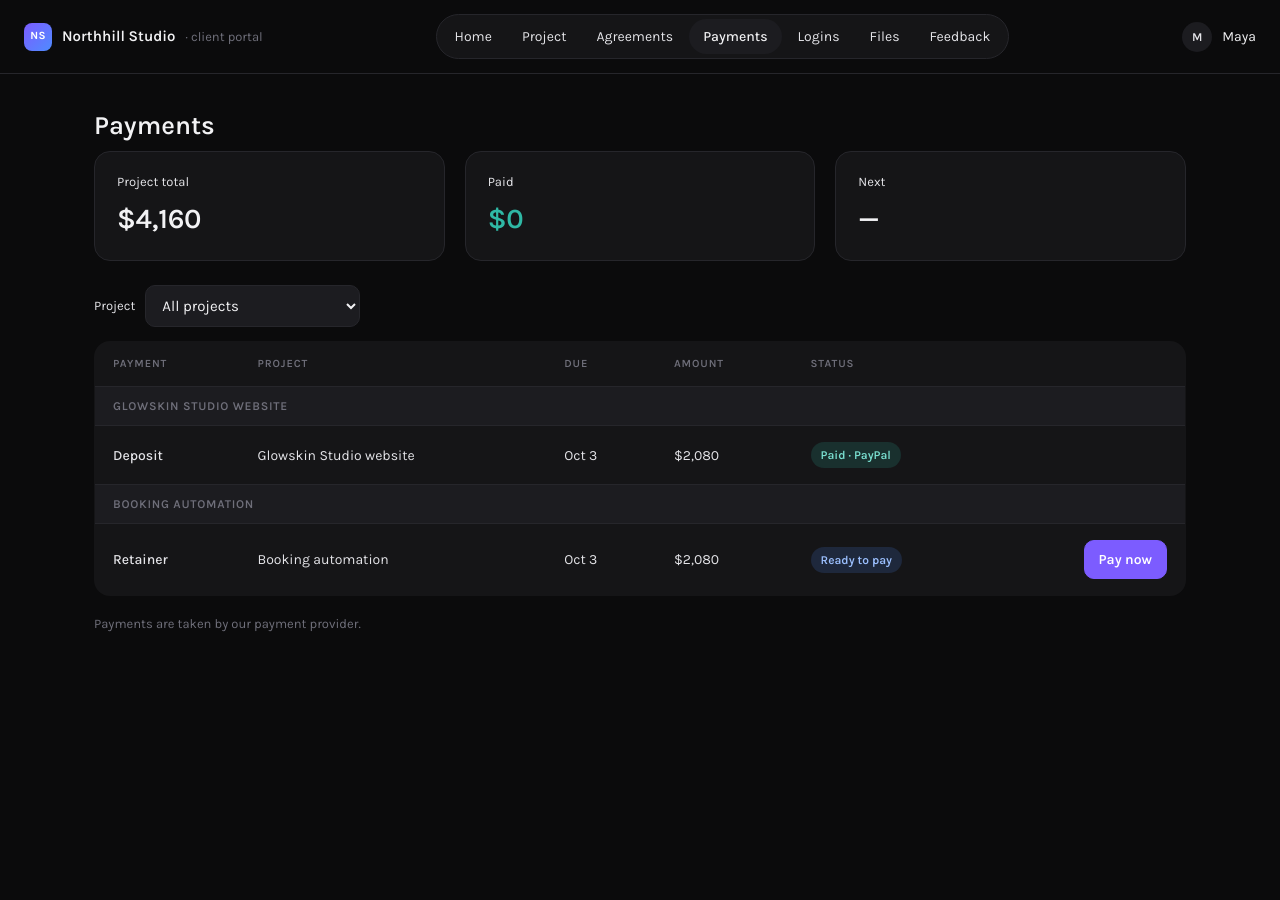
Test: grouping and the filter › narrows the table to one project, and back
Select "Booking automation" in the dropdown at x=253, y=306, box [145, 284, 360, 326]
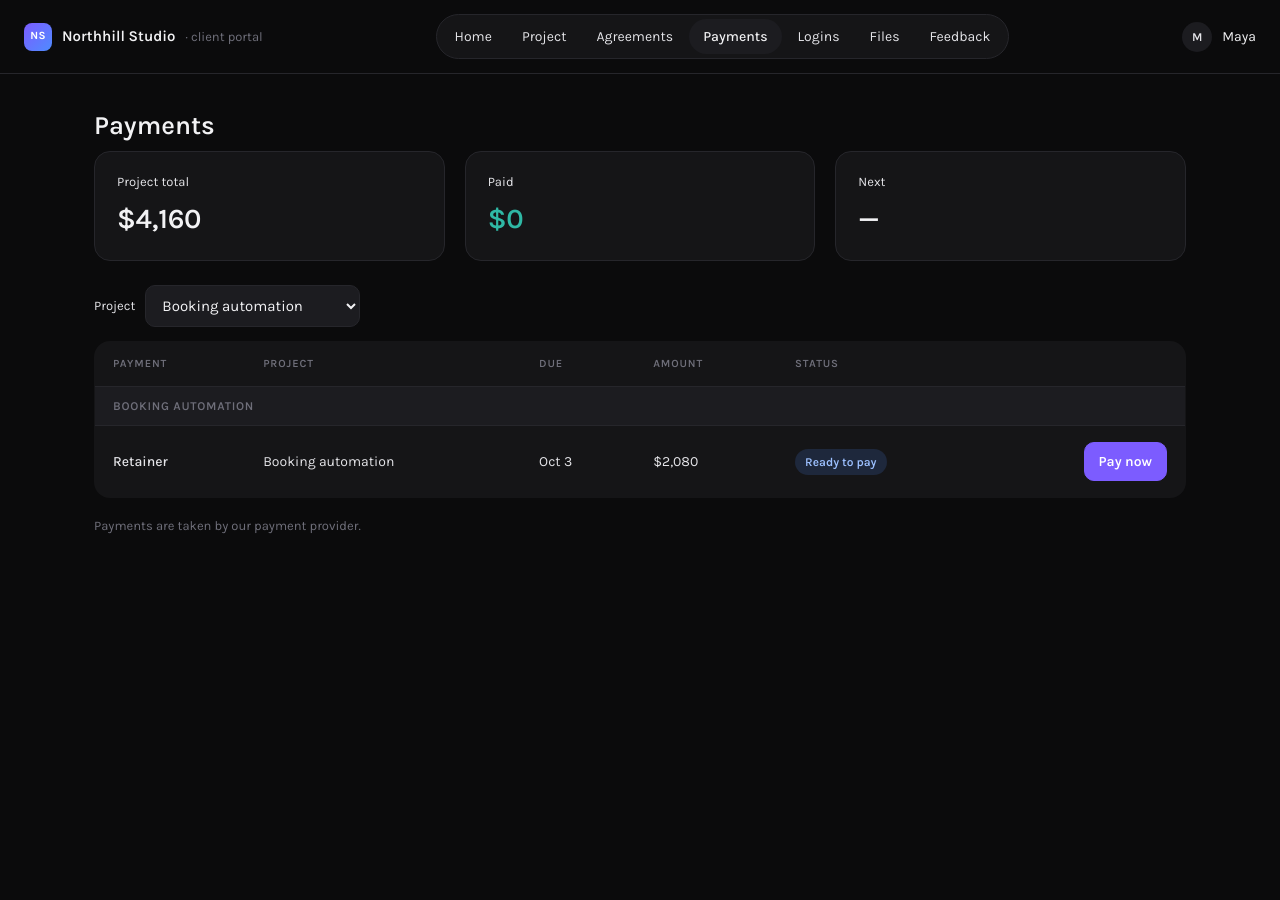
expect the text "Retainer" is shown: met, box [94, 426, 245, 498]
expect the text "Deposit" is gone: met
Select "All projects" in the dropdown at x=253, y=306, box [145, 284, 360, 326]
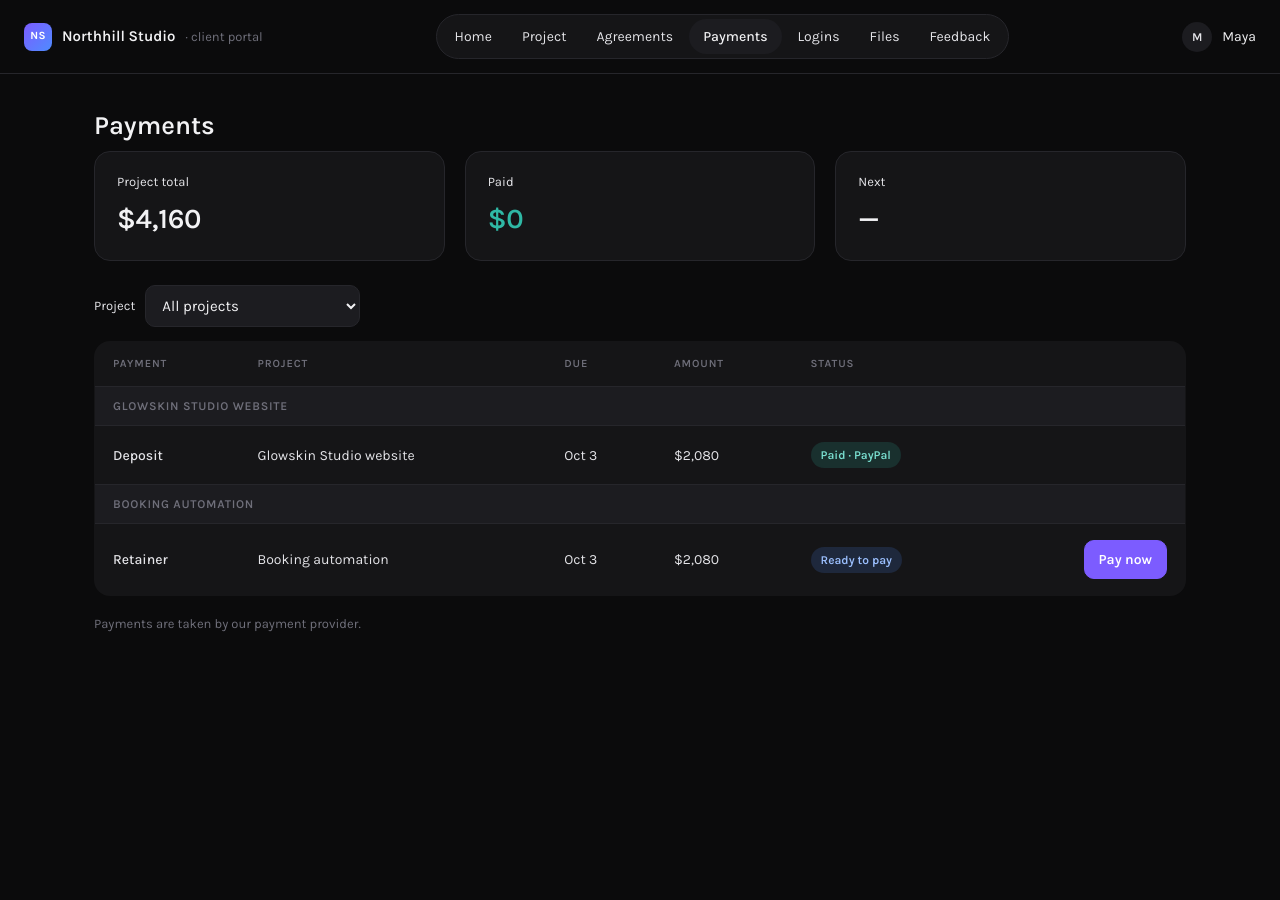
expect the text "Retainer" is shown: met, box [94, 524, 240, 596]
expect the text "Deposit" is shown: met, box [94, 426, 240, 484]
